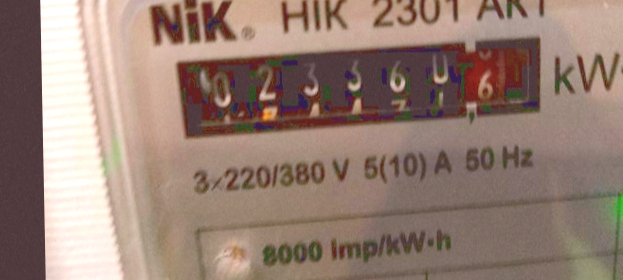0: (207, 67, 233, 110), (427, 48, 451, 86)
2: (251, 60, 278, 101)
3: (298, 58, 320, 98), (340, 55, 363, 93)
6: (382, 54, 409, 95), (475, 66, 496, 103)
screen: (153, 22, 556, 148)
